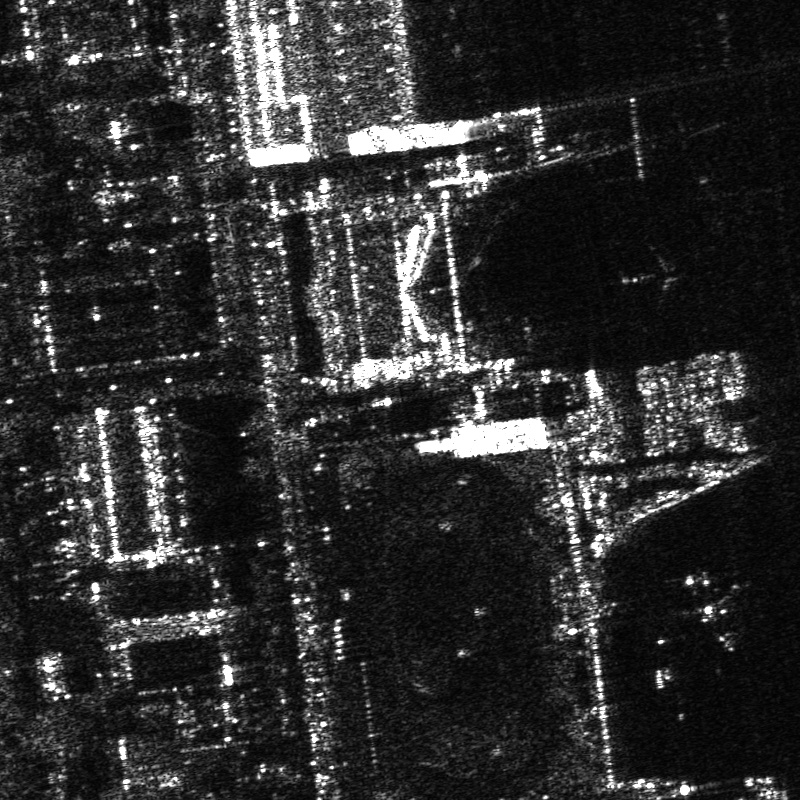Boeing787: (659, 565, 744, 657)
other: (616, 239, 693, 309)
